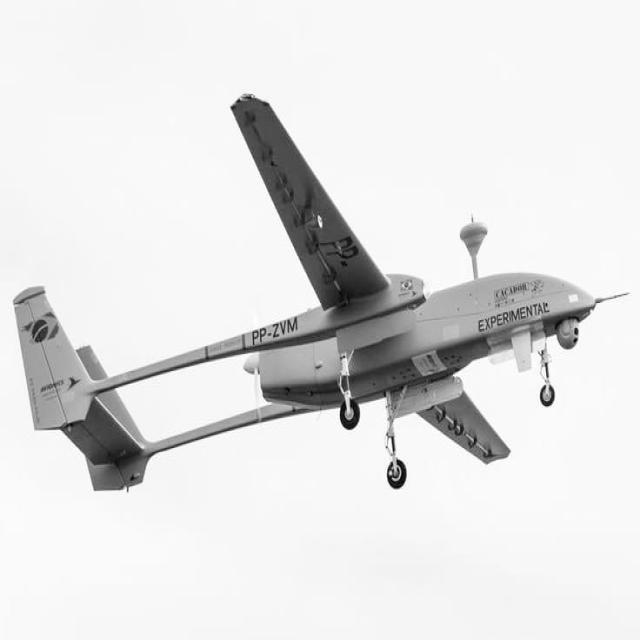iha: (4, 31, 624, 490)
